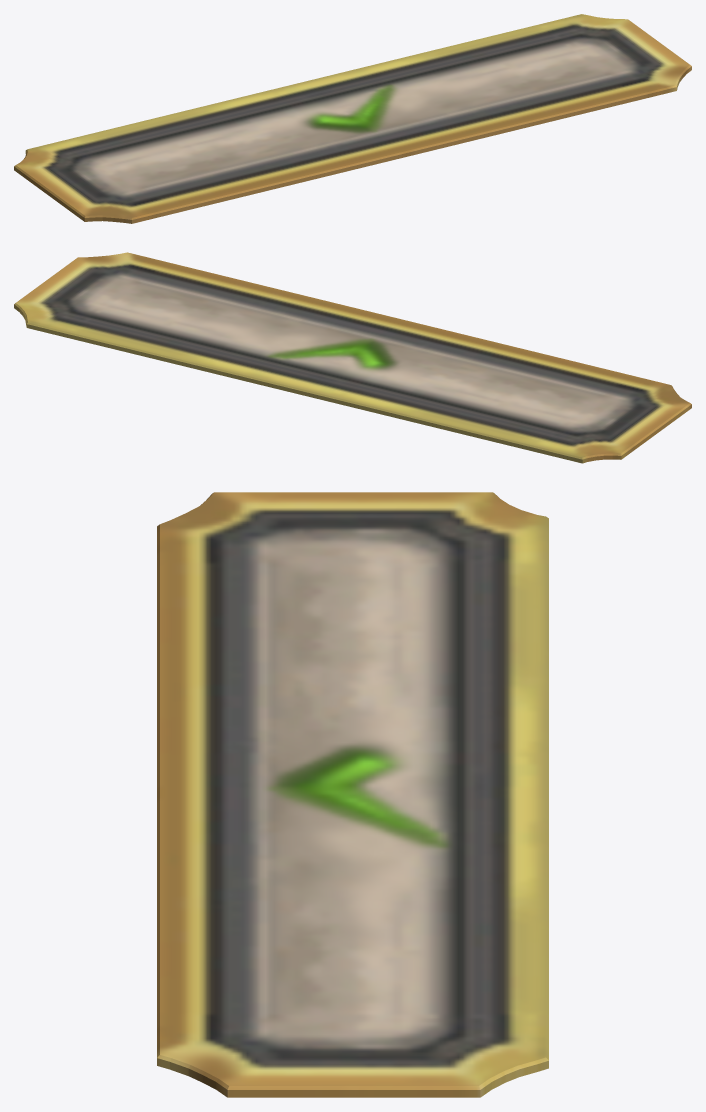
File: Button_Yes.glb
The picture shows the model from 3 angles, top to bottom: view 1: azimuth 30°, elevation 25°; view 2: azimuth 150°, elevation 25°; view 3: azimuth 270°, elevation 25°; orthographic projection. The views are drawn at different scales.
Visible parts, largest first — view 1: Btn_Yes; view 2: Btn_Yes; view 3: Btn_Yes.
Part boxes in pixels (x1,y1,x2,y2): Btn_Yes: (14,14,691,223); Btn_Yes: (14,252,691,463); Btn_Yes: (157,492,548,1097).
Size of the model in its own units: 6.62 by 0.054 by 1.84.
Materials: 1 (1 with a texture image).
